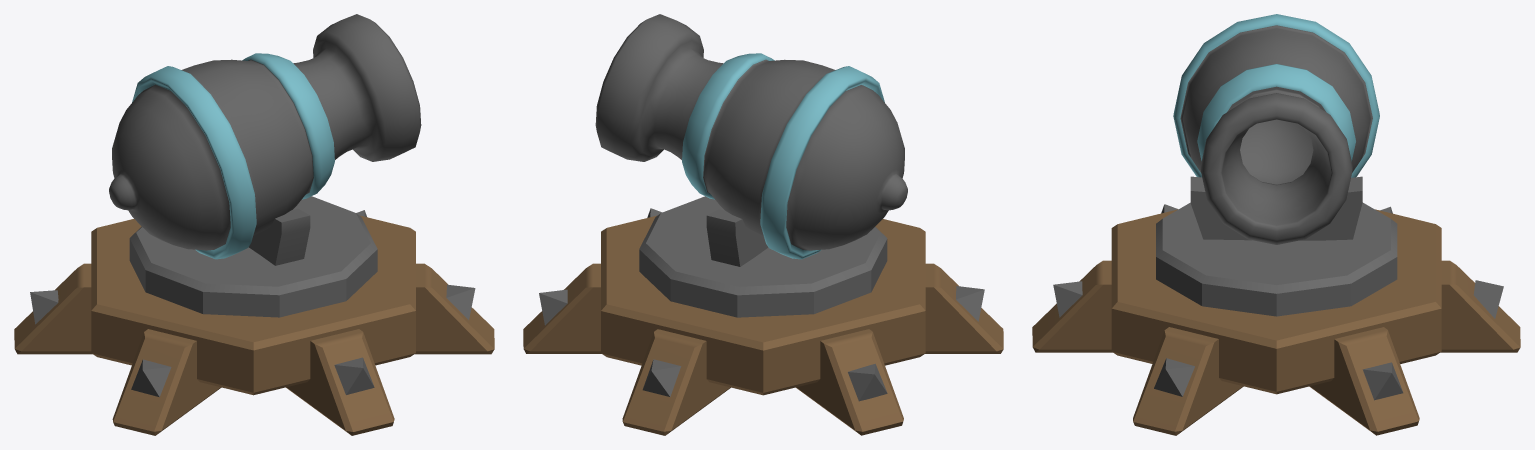
File: cannon.fbx
3 views of the same model, side by side, from view 1: azimuth 30°, elevation 25°; view 2: azimuth 150°, elevation 25°; view 3: azimuth 270°, elevation 25° (orthographic).
Parts seen in each view (by area): view 1: pCube13.002, pCube13; view 2: pCube13.002, pCube13; view 3: pCube13.002, pCube13.
Boxes of the visible parts, x1=… form: pCube13.002: x1=109, y1=14, x2=421, y2=317; pCube13: x1=14, y1=210, x2=494, y2=435; pCube13.002: x1=595, y1=14, x2=907, y2=317; pCube13: x1=523, y1=208, x2=1003, y2=435; pCube13.002: x1=1156, y1=14, x2=1397, y2=316; pCube13: x1=1032, y1=204, x2=1520, y2=435.
Bounding box in the file's own units: 1320 × 981 × 1441.
